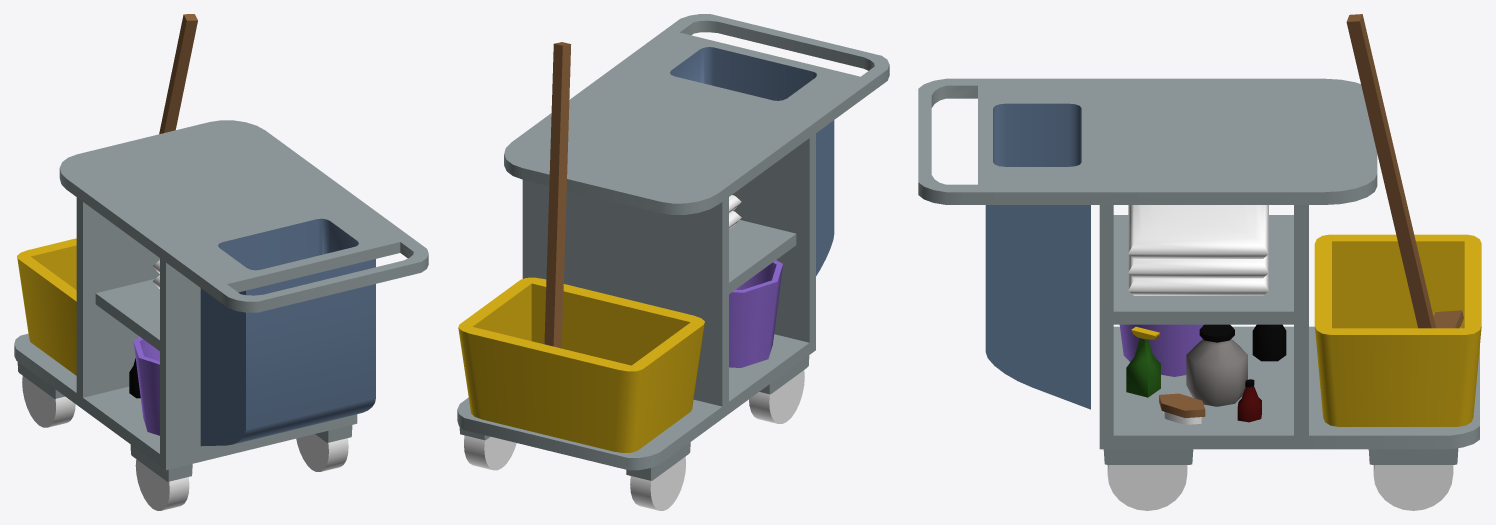
Rendered from carrinho-junto.fbx.
The picture shows the model from 3 angles, left to right: view 1: azimuth 30°, elevation 25°; view 2: azimuth 150°, elevation 25°; view 3: azimuth 270°, elevation 25°; orthographic projection. The views are drawn at different scales.
Visible parts, largest first — view 1: Cube.008, Cube.005, Cube.006, Cylinder.005, Cube.010, Cylinder.001; view 2: Cube.008, Cube.005, Cube.006, Cube.010, Cylinder.005, Cylinder.001; view 3: Cube.008, Cube.005, Cube.006, Cube.011, Cube.010, Cylinder.005, Cylinder.002, Cylinder.001, Cube.017, Cylinder, Cylinder.003, Cylinder.004.
Boxes of the visible parts, left/top/right/bottom form: Cube.008: left=59, top=120, right=428, bottom=446; Cube.005: left=14, top=197, right=357, bottom=481; Cube.006: left=17, top=238, right=76, bottom=375; Cylinder.005: left=22, top=376, right=348, bottom=510; Cube.010: left=76, top=14, right=197, bottom=289; Cylinder.001: left=133, top=337, right=159, bottom=435; Cube.008: left=504, top=14, right=889, bottom=275; Cube.005: left=457, top=133, right=815, bottom=480; Cube.006: left=458, top=277, right=704, bottom=452; Cube.010: left=544, top=42, right=571, bottom=348; Cylinder.005: left=464, top=370, right=804, bottom=510; Cylinder.001: left=729, top=260, right=782, bottom=367; Cube.008: left=918, top=78, right=1377, bottom=409; Cube.005: left=1099, top=205, right=1479, bottom=464; Cube.006: left=1314, top=234, right=1481, bottom=426; Cube.011: left=1128, top=205, right=1268, bottom=295; Cube.010: left=1346, top=14, right=1463, bottom=328; Cylinder.005: left=1107, top=465, right=1453, bottom=510; Cylinder.002: left=1186, top=324, right=1247, bottom=406; Cylinder.001: left=1119, top=324, right=1203, bottom=376; Cube.017: left=1126, top=326, right=1160, bottom=397; Cylinder: left=1252, top=324, right=1286, bottom=361; Cylinder.003: left=1159, top=393, right=1205, bottom=424; Cylinder.004: left=1237, top=379, right=1261, bottom=422.
Bounding box in the file's own units: 334 × 638 × 701.
